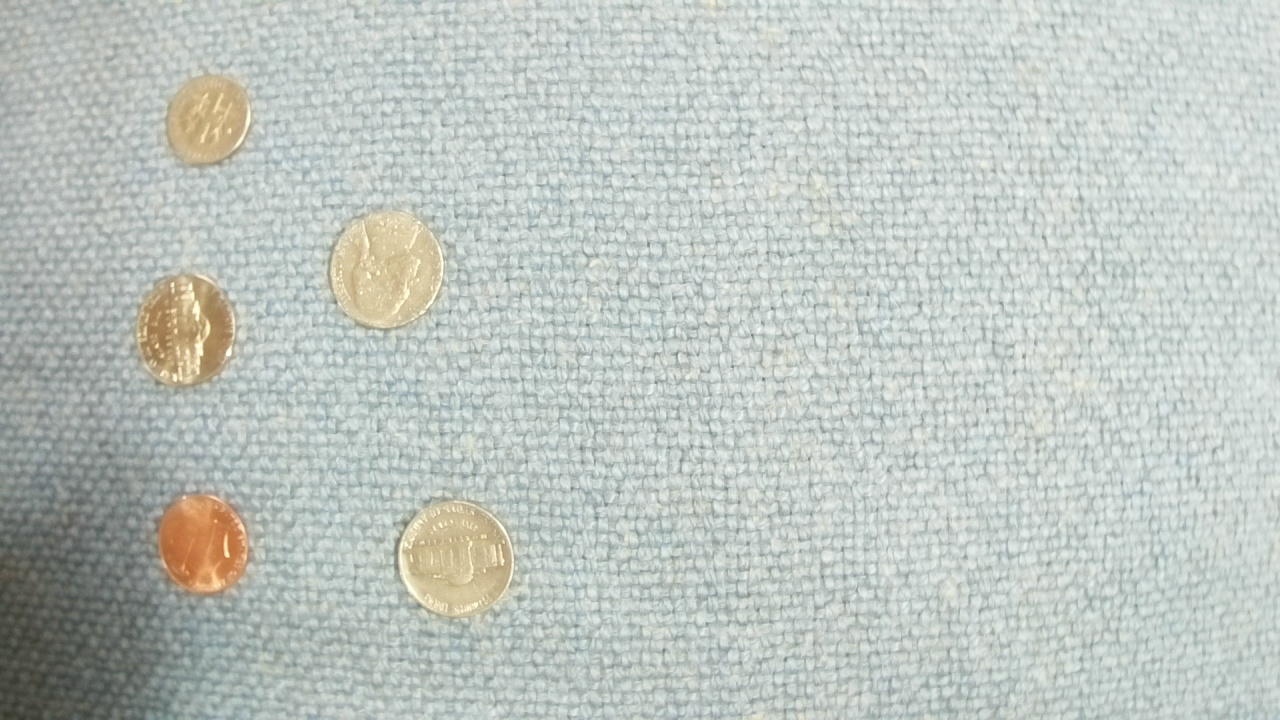dime: (163, 73, 253, 166)
nickel: (324, 208, 446, 330), (397, 498, 515, 620), (137, 270, 238, 389)
penny: (156, 490, 251, 597)
